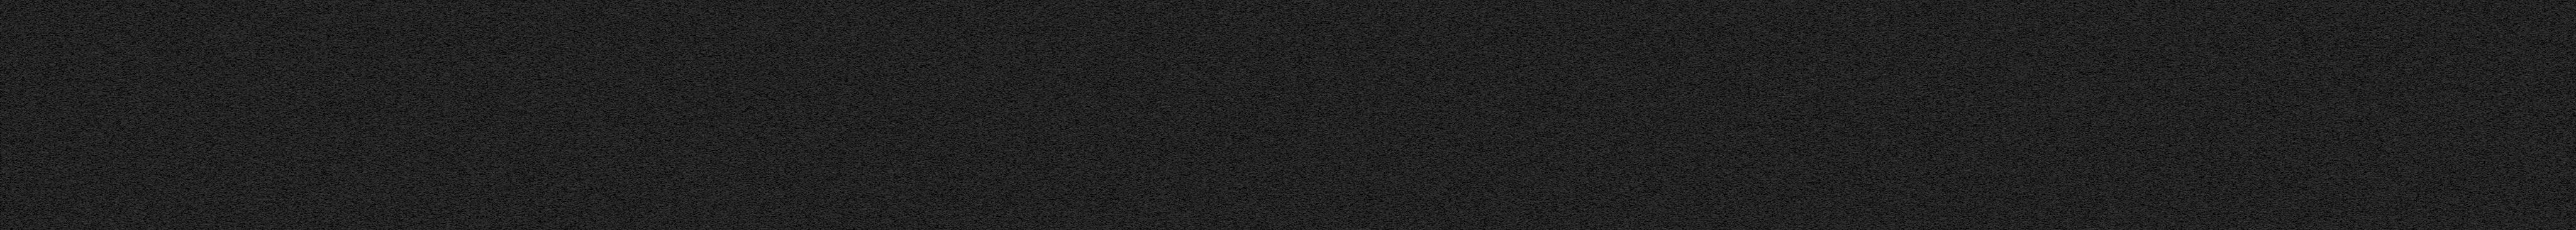wv_cw: (2403, 0, 2407, 230), (241, 0, 245, 230)
wv_dvbt_8kfft: (779, 0, 1768, 230)
wv_lsb: (2422, 189, 2425, 230), (2422, 122, 2423, 189), (2422, 89, 2423, 115), (2422, 49, 2423, 59), (2422, 76, 2423, 80), (2422, 117, 2423, 120), (2422, 72, 2423, 76), (2422, 59, 2423, 62), (2422, 43, 2423, 46), (2422, 38, 2423, 41), (2422, 34, 2423, 38), (2422, 30, 2423, 33), (2422, 26, 2423, 30), (2422, 16, 2423, 20), (2422, 13, 2423, 16), (2422, 85, 2423, 87), (2422, 69, 2423, 71), (2422, 10, 2423, 12)
wv_usb: (2277, 23, 2280, 74), (2382, 107, 2385, 154), (2382, 54, 2385, 97), (2277, 100, 2280, 131), (2277, 199, 2280, 225), (2277, 135, 2280, 161), (2277, 174, 2280, 197), (2277, 76, 2280, 99), (2277, 5, 2280, 20), (2382, 16, 2385, 31), (2382, 168, 2385, 181), (172, 16, 176, 26), (2382, 189, 2385, 199), (2382, 220, 2385, 228), (2382, 99, 2385, 107), (2382, 31, 2385, 39), (172, 120, 176, 127), (2382, 154, 2385, 161), (2277, 225, 2280, 230), (2277, 169, 2280, 174), (172, 128, 176, 133), (2277, 163, 2280, 168), (2382, 41, 2385, 46), (2382, 2, 2385, 7), (2382, 204, 2384, 212), (2277, 0, 2280, 3), (174, 223, 176, 230), (2382, 184, 2385, 187), (2382, 10, 2385, 13), (2277, 21, 2280, 23), (174, 184, 176, 187), (174, 179, 176, 182), (174, 174, 176, 177), (172, 135, 176, 136), (172, 127, 176, 128), (174, 85, 176, 89), (174, 72, 176, 76), (172, 71, 176, 72), (174, 26, 176, 30), (2382, 215, 2384, 218), (2382, 51, 2384, 54), (2277, 131, 2280, 133), (2382, 7, 2384, 10), (174, 80, 176, 82), (174, 77, 176, 79), (174, 33, 176, 34), (2382, 163, 2384, 164)
wv_wbfm: (131, 0, 161, 230), (412, 0, 435, 230)
